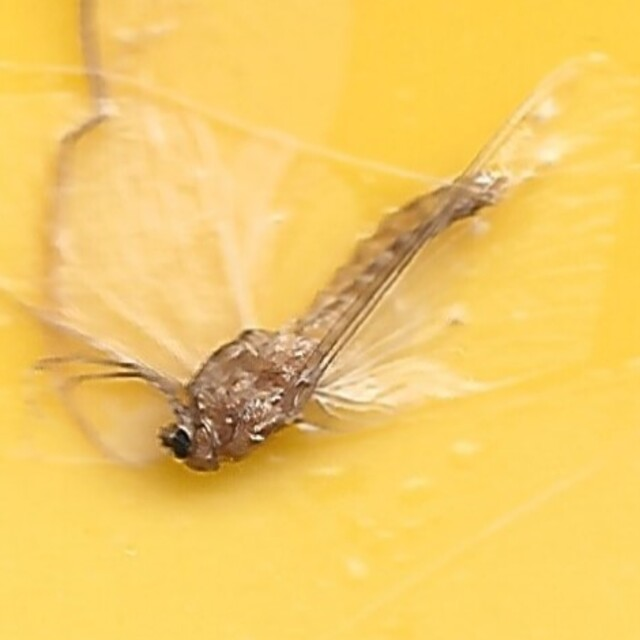Ephemeroptera: (136, 156, 504, 484)
